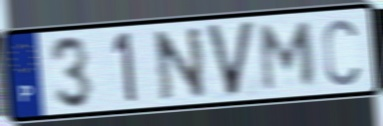1: (110, 30, 142, 106)
3: (48, 33, 95, 111)
C: (320, 16, 361, 89)
M: (259, 20, 318, 94)
N: (151, 24, 209, 104)
V: (203, 18, 258, 101)
